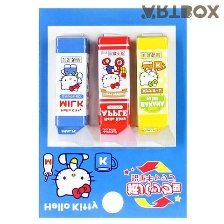carton: (94, 33, 139, 147), (133, 30, 176, 147), (52, 32, 96, 146)
